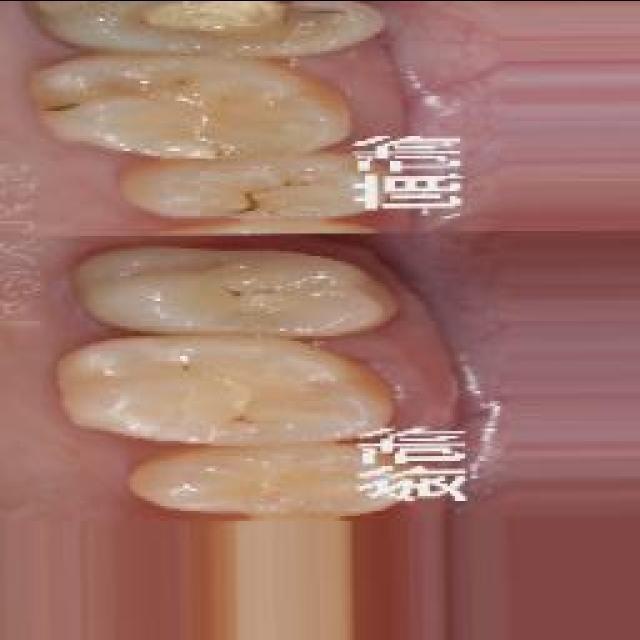caries: (133, 0, 355, 40), (200, 170, 338, 215)
